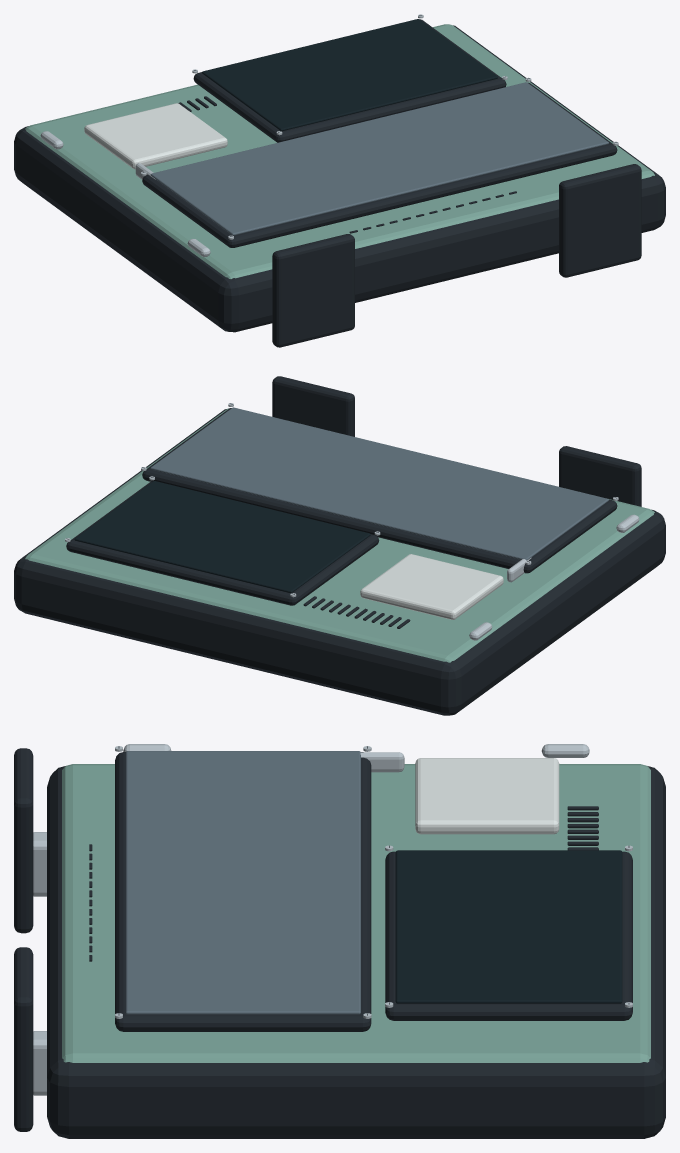
File: mix.glb
3 renders of one model, top to bottom at view 1: azimuth 30°, elevation 25°; view 2: azimuth 150°, elevation 25°; view 3: azimuth 270°, elevation 25°, orthographic. The views are drawn at different scales.
Visible parts, largest first — view 1: deck live content surface.012, Gasket enclosure.003, Front folded cabinet.003, screen live content surface.012, Rubber machine foot.020, Rubber machine foot.021, deck mounting bezel.012, Equipment identity plate.012, screen mounting bezel.012; view 2: Gasket enclosure.003, deck live content surface.012, Front folded cabinet.003, screen live content surface.012, deck mounting bezel.012, Equipment identity plate.012, screen mounting bezel.012, Rubber machine foot.021, Rubber machine foot.020; view 3: deck live content surface.012, Gasket enclosure.003, Front folded cabinet.003, screen live content surface.012, Equipment identity plate.012, deck mounting bezel.012, screen mounting bezel.012, Rubber machine foot.020, Rubber machine foot.021, Support column.020, Support column.021, Door handle.003 (+1 smaller).
Part boxes in pixels (box(x1,y1,x2,y2)): deck live content surface.012: box(150, 82, 608, 235); Gasket enclosure.003: box(14, 25, 665, 332); Front folded cabinet.003: box(25, 24, 654, 278); screen live content surface.012: box(202, 19, 497, 131); Rubber machine foot.020: box(272, 234, 354, 347); Rubber machine foot.021: box(559, 164, 641, 277); deck mounting bezel.012: box(142, 82, 617, 247); Equipment identity plate.012: box(84, 103, 227, 169); screen mounting bezel.012: box(193, 19, 506, 142); Gasket enclosure.003: box(14, 409, 665, 715); deck live content surface.012: box(150, 407, 608, 560); Front folded cabinet.003: box(25, 408, 654, 662); screen live content surface.012: box(74, 481, 370, 593); deck mounting bezel.012: box(142, 408, 617, 573); Equipment identity plate.012: box(360, 554, 503, 619); screen mounting bezel.012: box(66, 481, 379, 605); Rubber machine foot.021: box(272, 376, 354, 436); Rubber machine foot.020: box(559, 446, 641, 506); deck live content surface.012: box(125, 751, 360, 1014); Gasket enclosure.003: box(47, 766, 665, 1138); Front folded cabinet.003: box(62, 764, 650, 1062); screen live content surface.012: box(395, 850, 622, 1003); Equipment identity plate.012: box(415, 758, 559, 834); deck mounting bezel.012: box(115, 752, 371, 1031); screen mounting bezel.012: box(385, 851, 632, 1020); Rubber machine foot.020: box(14, 748, 33, 933); Rubber machine foot.021: box(14, 947, 33, 1131); Support column.020: box(33, 832, 46, 896); Support column.021: box(33, 1031, 46, 1095); Door handle.003: box(360, 752, 404, 772).
Bounding box in the file's own units: 8.4 × 1.7 × 7.48.
